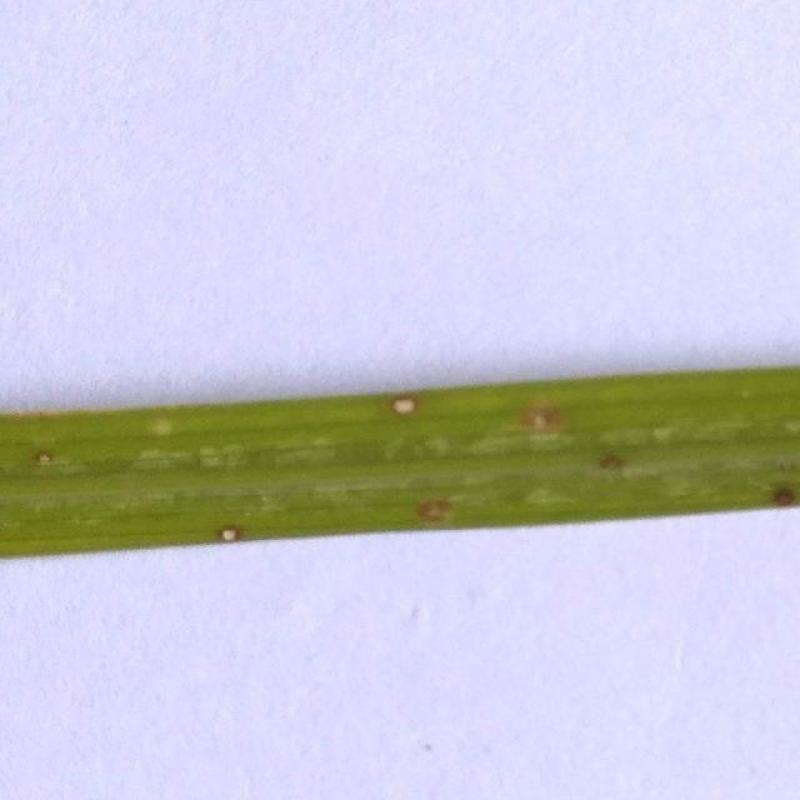Leaf_Blast: (121, 396, 800, 528)
